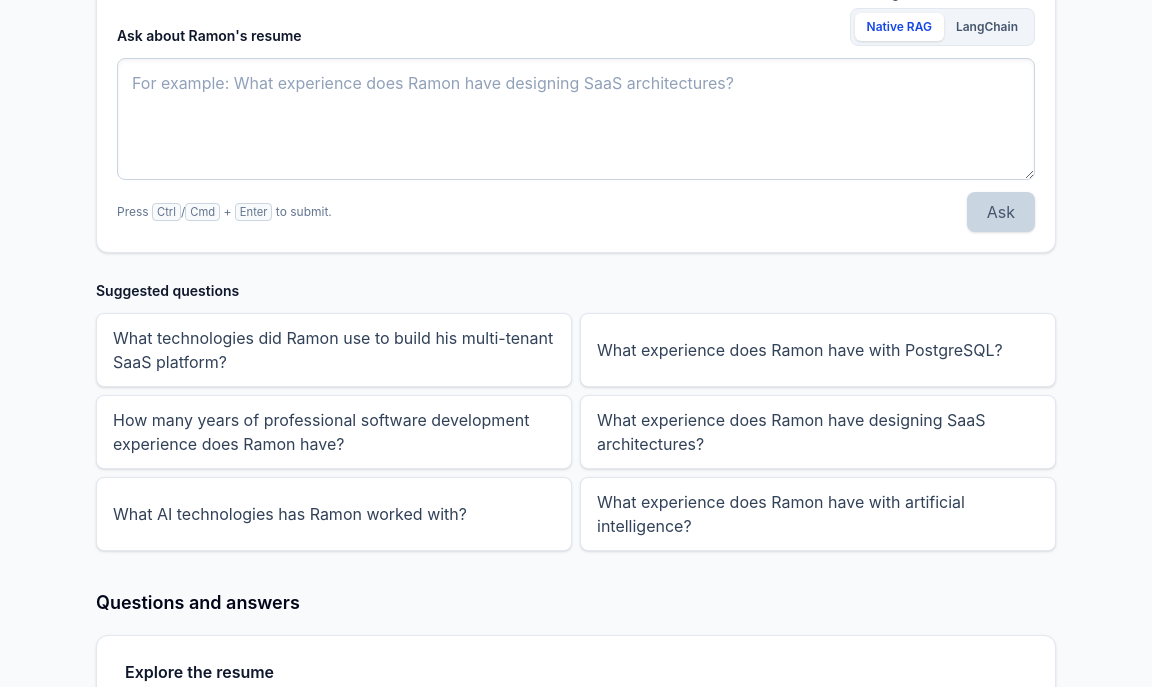
it: AI Resume application › clears the in-memory question history
(page scrolled)
Click the button "What experience does Ramon have with PostgreSQL?": (818, 350) [580,313,1056,387]
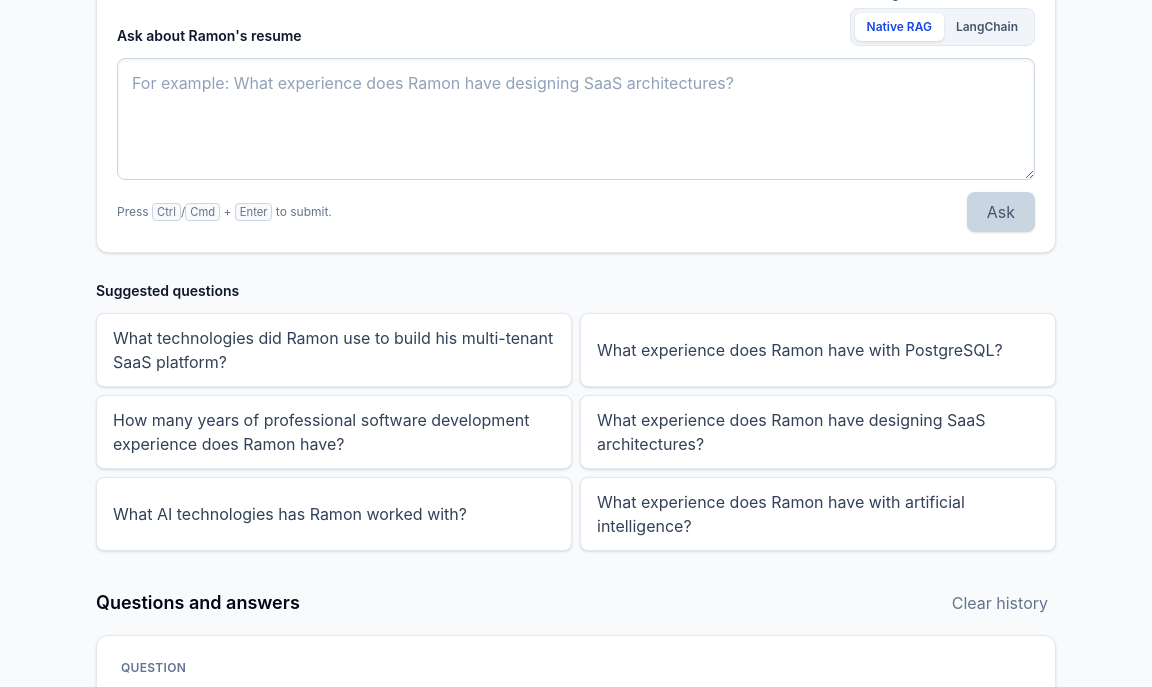
Click the button "Clear history": (1000, 603) [944,587,1056,619]
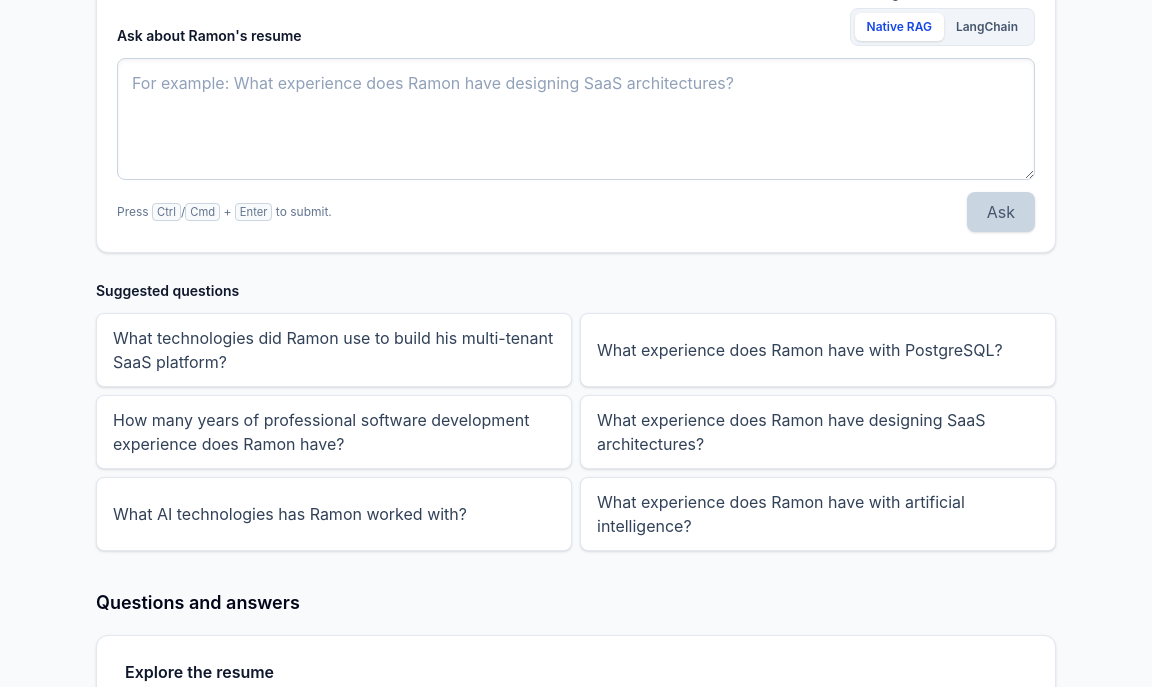
Expected: the heading "Explore the resume" is shown, [125,662,274,682]
Expected: the button "Clear history" is gone
